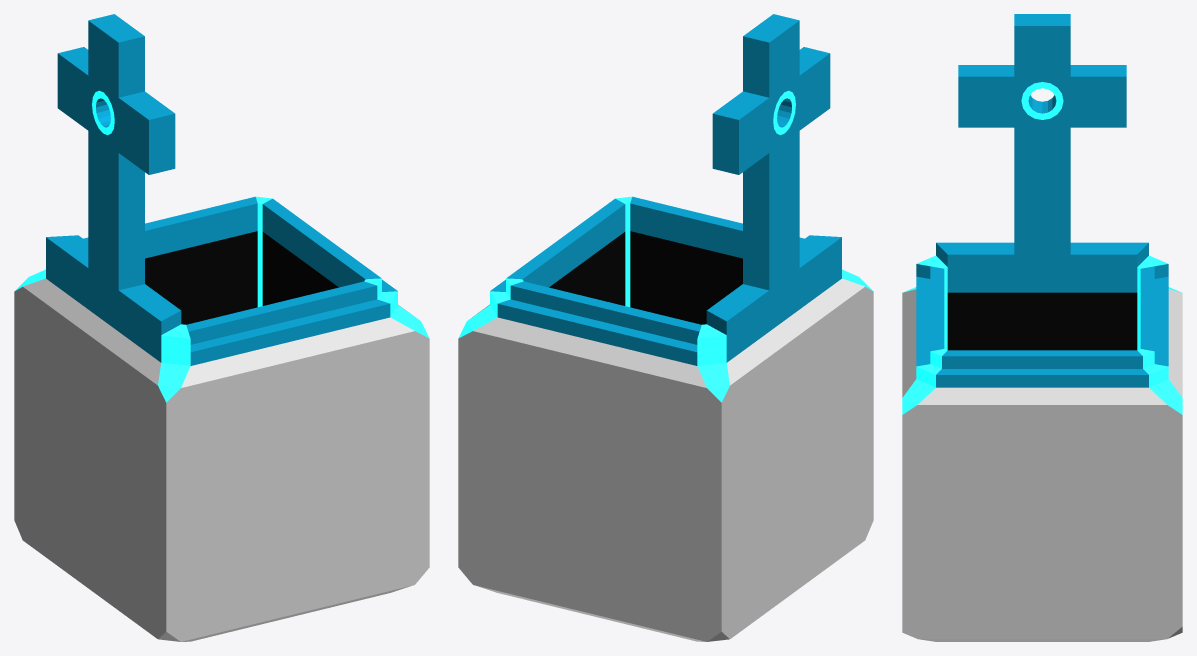
Rendered from Spawner.fbx.
3 views of the same model, side by side, from view 1: azimuth 30°, elevation 25°; view 2: azimuth 150°, elevation 25°; view 3: azimuth 270°, elevation 25° (orthographic). The views are drawn at different scales.
Visible parts, largest first — view 1: Tomb; view 2: Tomb; view 3: Tomb.
Boxes of the visible parts, x1=… form: Tomb: x1=14, y1=14, x2=429, y2=641; Tomb: x1=458, y1=14, x2=873, y2=641; Tomb: x1=902, y1=14, x2=1182, y2=641.
Bounding box in the file's own units: 100 × 205 × 100.
